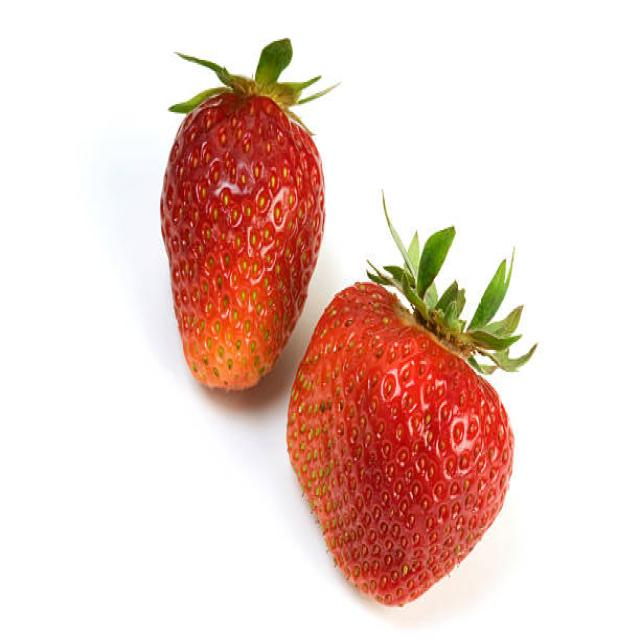Healthy Fruit: (286, 277, 513, 604), (161, 91, 322, 390)
